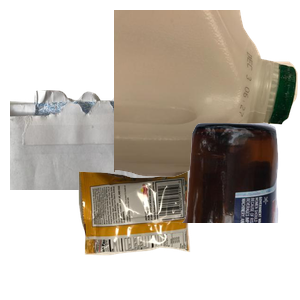glass: (87, 120, 300, 300)
paper: (10, 84, 250, 264)
plastic: (114, 10, 300, 179)
trash: (76, 159, 259, 300)
